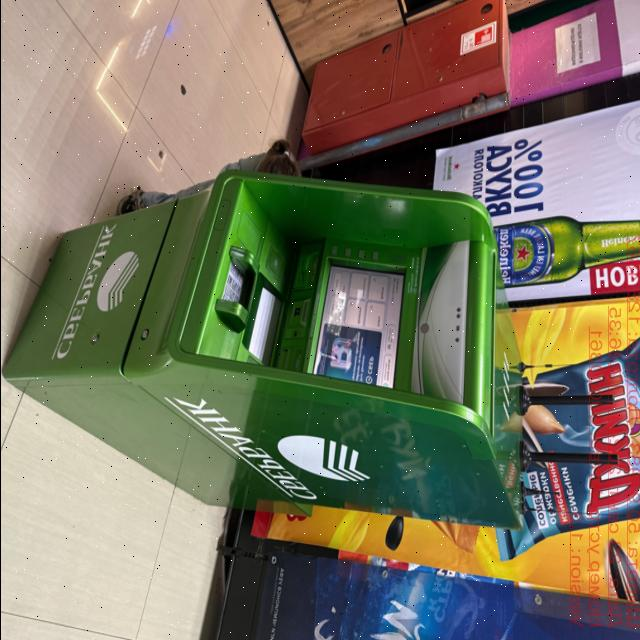bank: (0, 172, 524, 538)
